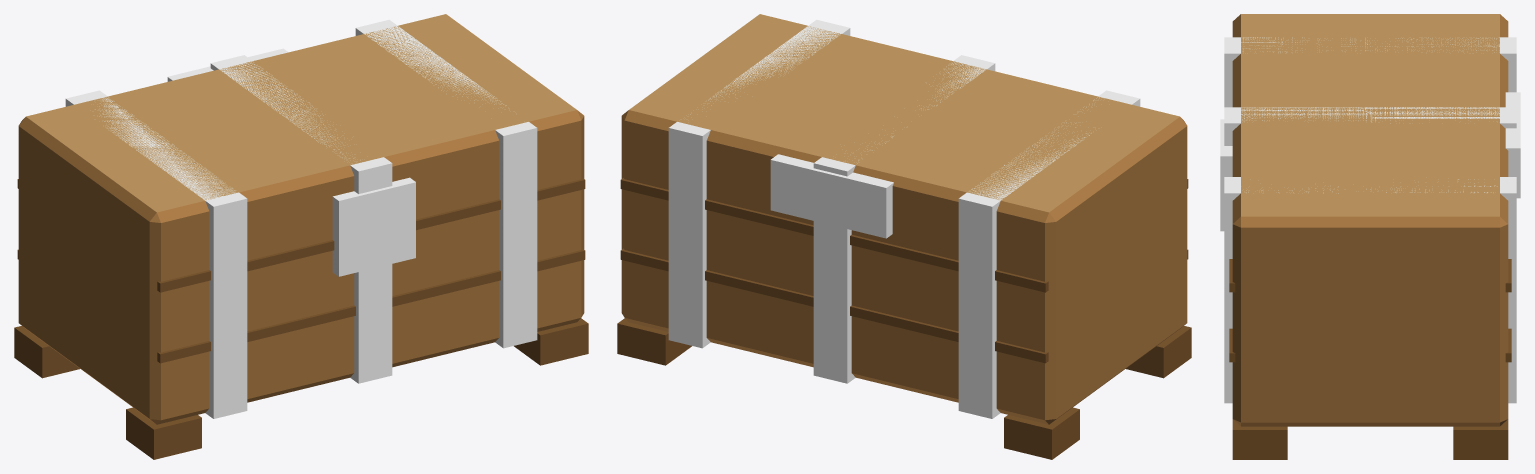
Rendered from chest.glb.
3 renders of one model, left to right at view 1: azimuth 30°, elevation 25°; view 2: azimuth 150°, elevation 25°; view 3: azimuth 270°, elevation 25°, orthographic.
Parts seen in each view (by area): view 1: Chest; view 2: Chest; view 3: Chest.
Part boxes in pixels (<box>): Chest: <box>14,14,588,459</box>; Chest: <box>617,14,1191,459</box>; Chest: <box>1220,14,1520,459</box>.
Bounding box in the file's own units: 0.9 × 0.48 × 0.545.
